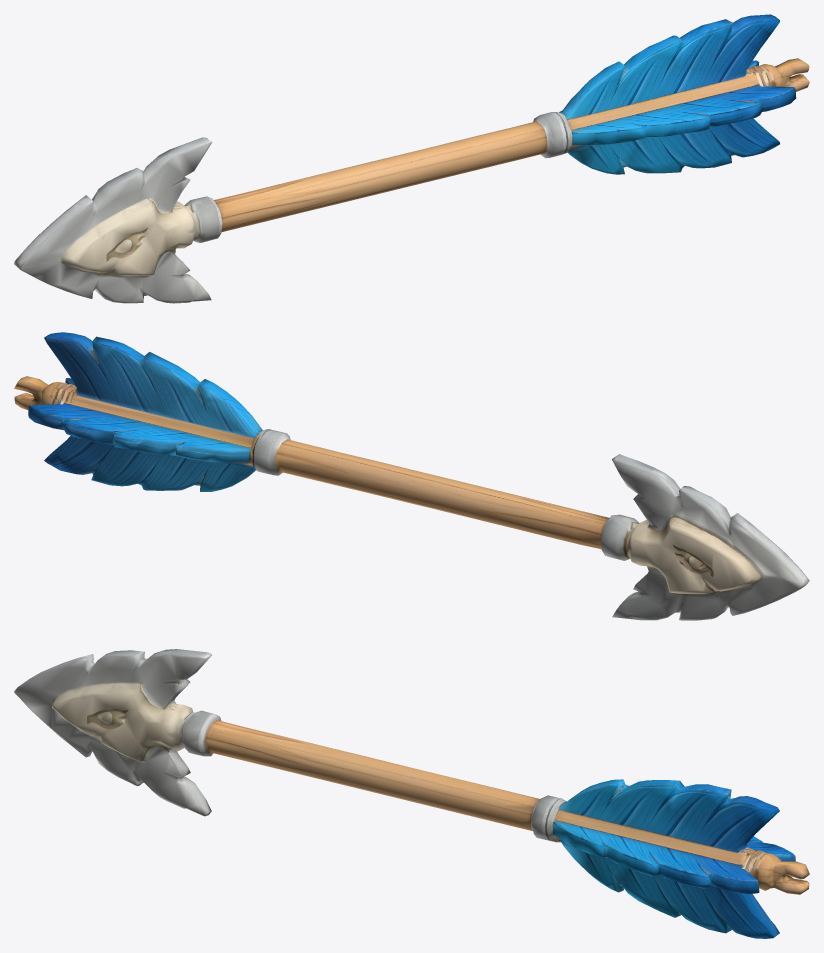
The model's file is EagleArrow.fbx.
3 renders of one model, top to bottom at view 1: azimuth 30°, elevation 25°; view 2: azimuth 150°, elevation 25°; view 3: azimuth 330°, elevation 25°, orthographic.
Parts seen in each view (by area): view 1: Mesh_0; view 2: Mesh_0; view 3: Mesh_0.
Part boxes in pixels (x1,y1,x2,y2): Mesh_0: [14, 14, 809, 303]; Mesh_0: [14, 332, 809, 620]; Mesh_0: [14, 649, 809, 938].
Size of the model in its own units: 191 by 36.9 by 22.85.
Materials: 1 (1 with a texture image).
